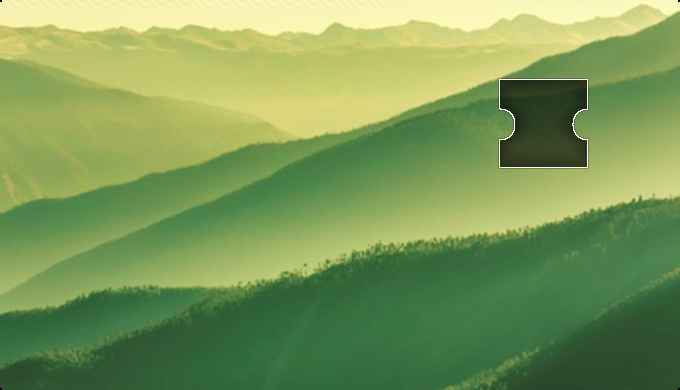gap: (500, 78, 588, 167)
